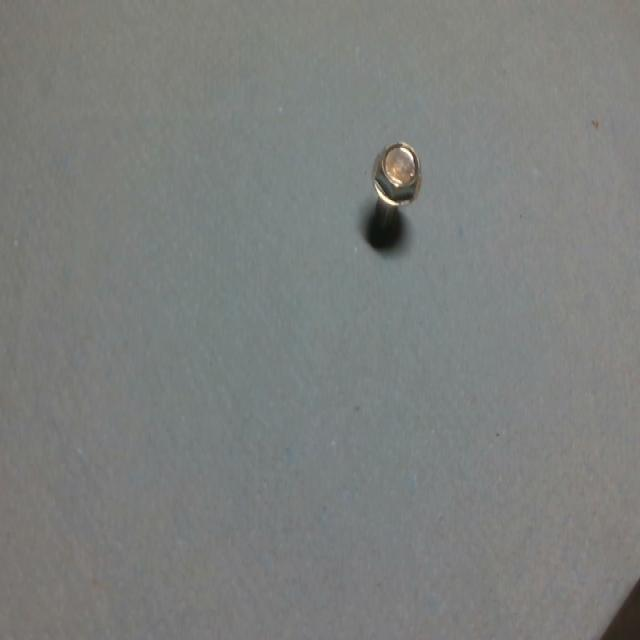Bolt: (360, 134, 428, 253)
